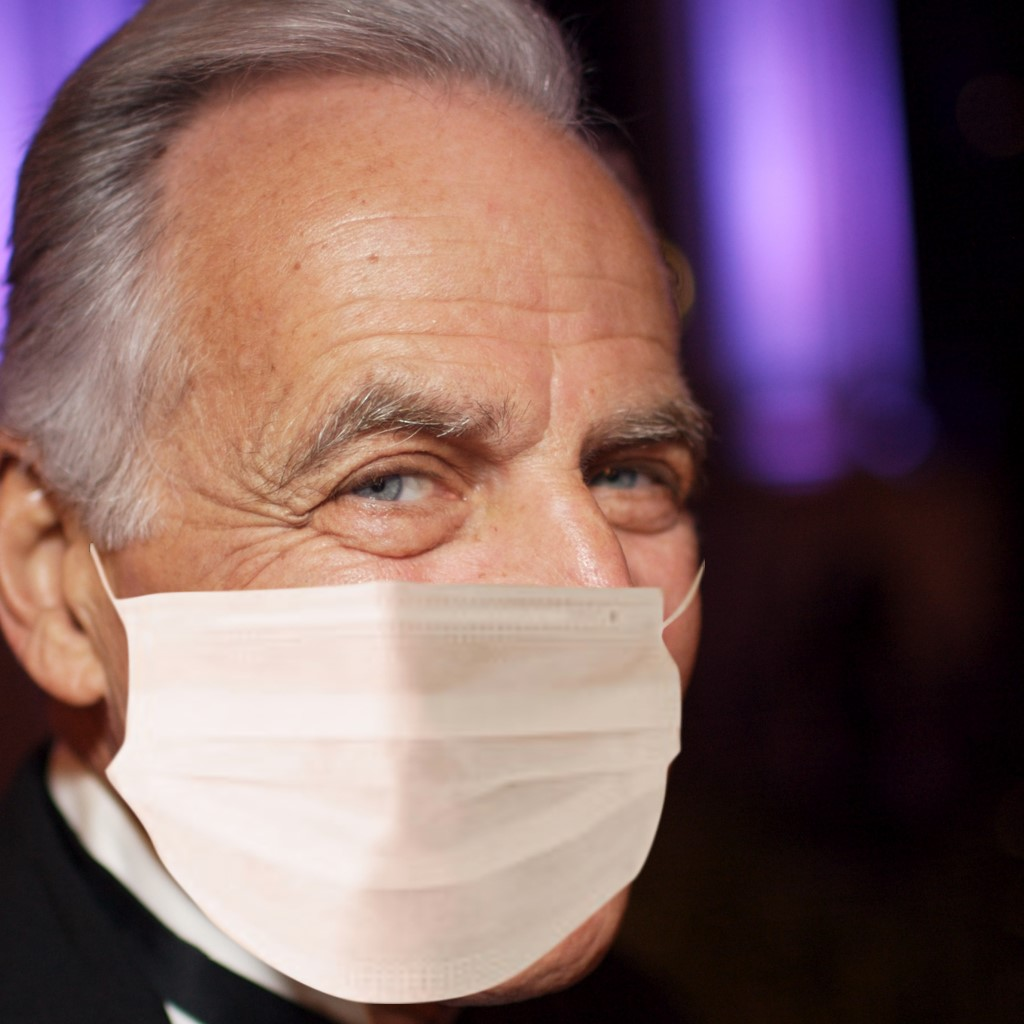con_mascara: (73, 86, 708, 991)
